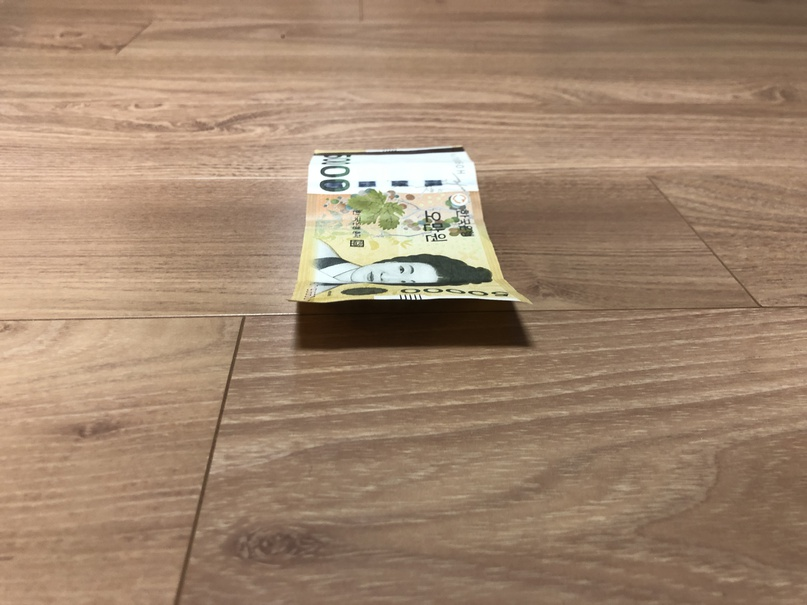50000won: (287, 146, 533, 306)
